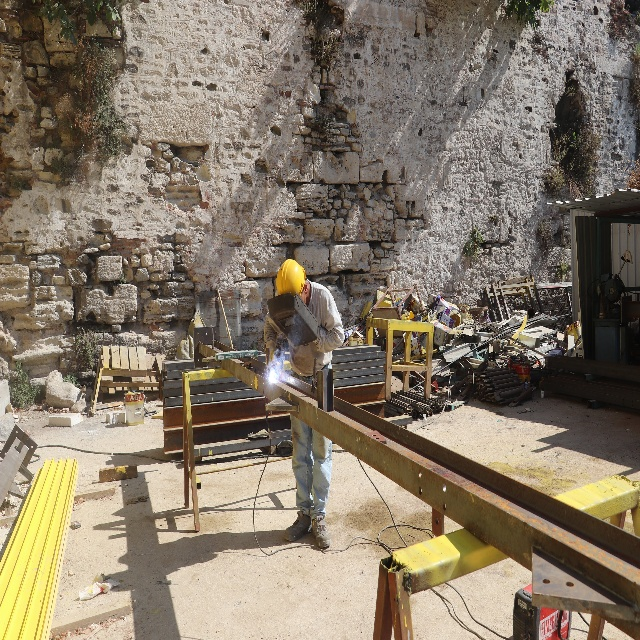Guantes: (265, 340, 276, 362)
